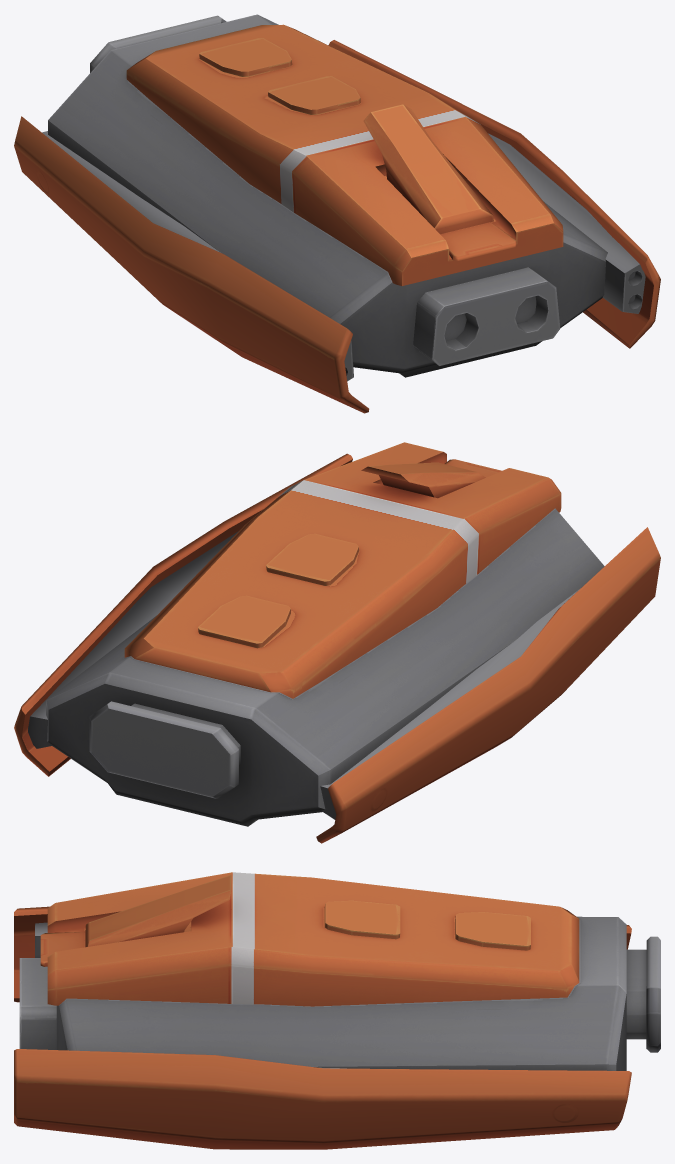
The picture shows the model from 3 angles, top to bottom: view 1: azimuth 30°, elevation 25°; view 2: azimuth 150°, elevation 25°; view 3: azimuth 270°, elevation 25°; orthographic projection. The views are drawn at different scales.
Visible parts, largest first — view 1: qz_zd_02; view 2: qz_zd_02; view 3: qz_zd_02.
Boxes of the visible parts, x1=… form: qz_zd_02: x1=14, y1=14, x2=660, y2=413; qz_zd_02: x1=14, y1=442, x2=660, y2=843; qz_zd_02: x1=14, y1=872, x2=660, y2=1149.
Size of the model in its own units: 489 by 248 by 740.
